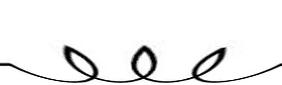inductor: (6, 42, 279, 84)
